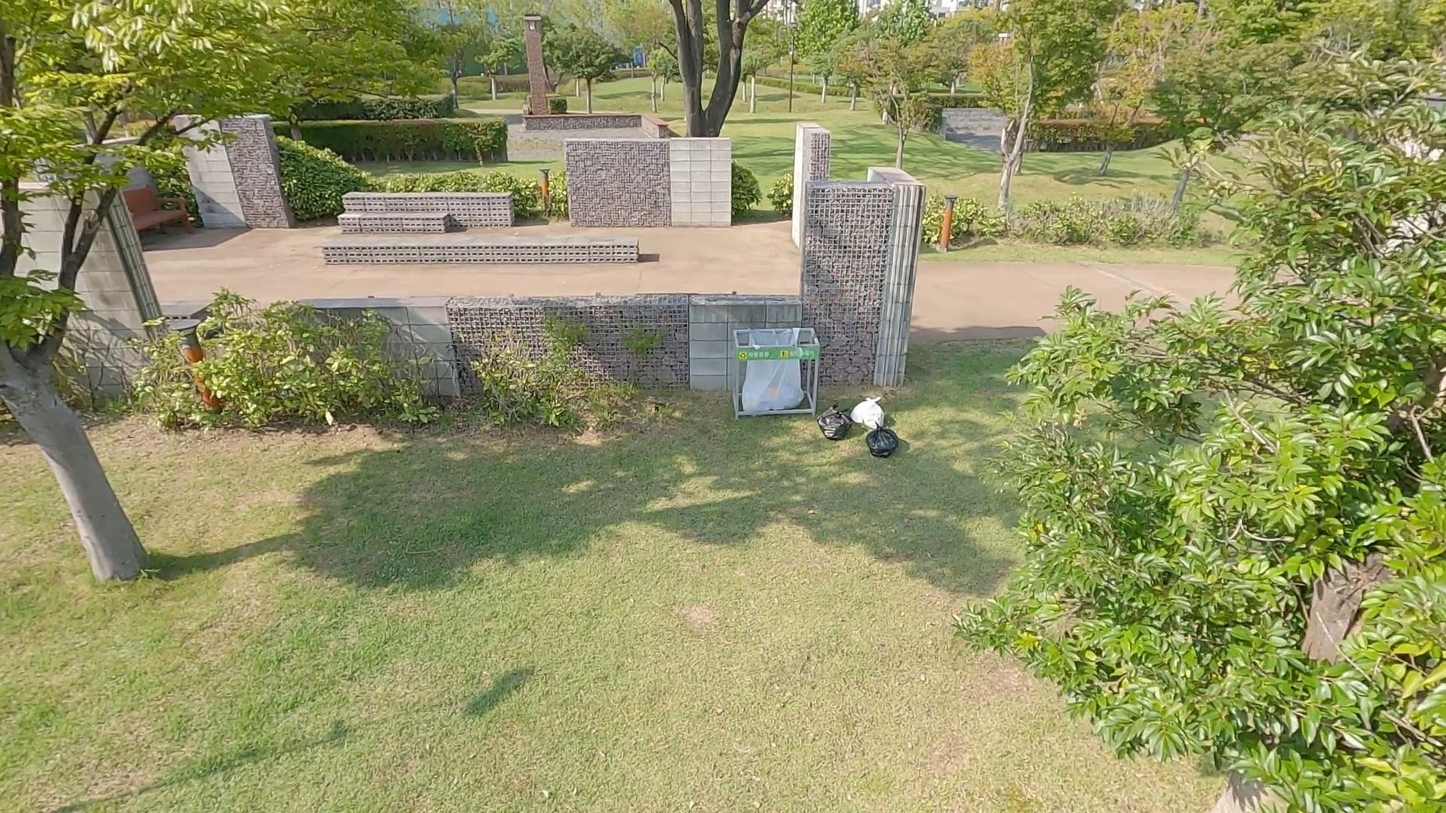trash: (866, 421, 899, 457), (850, 396, 885, 428), (819, 410, 854, 441), (819, 402, 848, 423)
